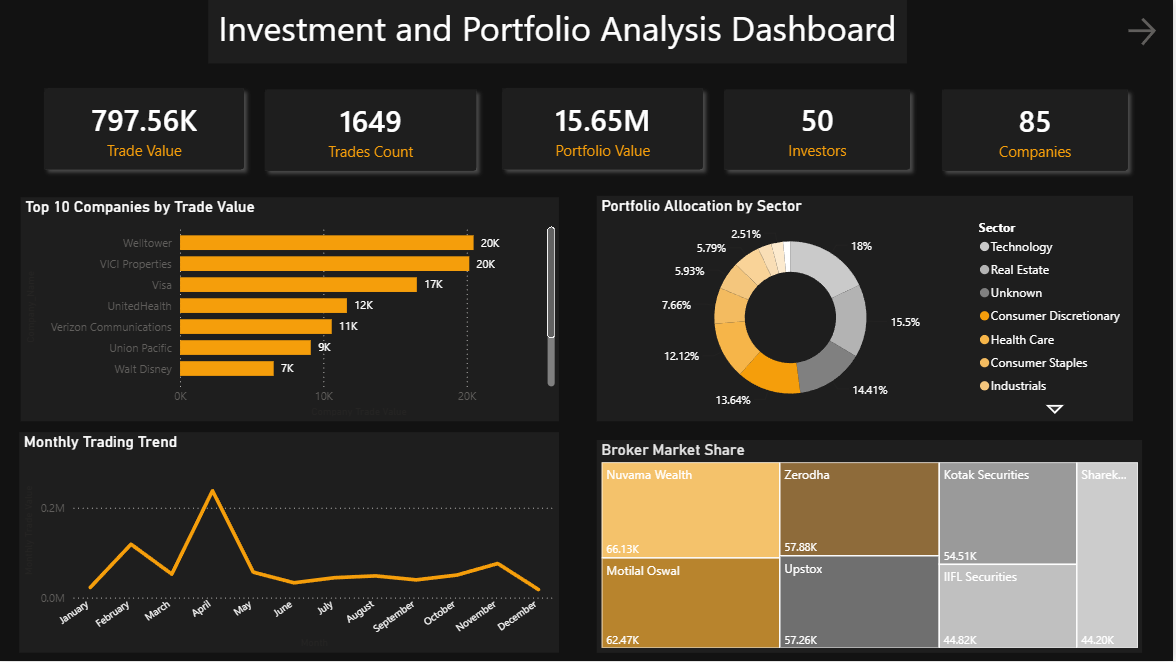

What the dashboard file says about the page in this screenshot:
{"tool":"powerbi","page":{"name":"Page 1","canvas":[1280,720],"ordinal":0},"visuals":[{"type":"textbox","box":[230,0,760,70],"z":0},{"type":"cardVisual","fields":{"Data":["Brokers.Total Trade Value"]},"box":[23.3,68.3,275,146.7],"z":1000},{"type":"cardVisual","fields":{"Data":["Brokers.Total Trades"]},"box":[263.3,70,288.3,146.7],"z":2000},{"type":"cardVisual","fields":{"Data":["Brokers.Portfolio Value"]},"box":[521.7,68.3,276.7,146.7],"z":3000},{"type":"cardVisual","fields":{"Data":["Brokers.Total Investors"]},"box":[763.3,70,260,145],"z":4000},{"type":"cardVisual","fields":{"Data":["Brokers.Total Companies"]},"box":[1000,70,260,146.7],"z":5000},{"type":"clusteredBarChart","title":"Top 10 Companies by Trade Value","fields":{"Category":["Companies.Company_Name"],"Y":["Brokers.Company Trade Value"]},"box":[25,216.2,586.2,243.8],"z":6000},{"type":"donutChart","title":"Portfolio Allocation by Sector","fields":{"Y":["Brokers.Sector Portfolio Value"],"Category":["Companies.Sector"]},"box":[652.5,213.8,583.8,245],"z":7000},{"type":"lineChart","title":"Monthly Trading Trend","fields":{"Y":["Brokers.Monthly Trade Value"],"Category":["Fact_Trades.Transaction_Date.Variation.Date Hierarchy.Year","Fact_Trades.Transaction_Date.Variation.Date Hierarchy.Quarter","Fact_Trades.Transaction_Date.Variation.Date Hierarchy.Month","Fact_Trades.Transaction_Date.Variation.Date Hierarchy.Day"]},"box":[23.8,471.2,587.5,240],"z":8000},{"type":"treemap","title":"Broker Market Share","fields":{"Group":["Brokers.Broker_Name"],"Values":["Brokers.Broker Trade Value"]},"box":[652.5,480,593.8,231.2],"z":9000},{"type":"actionButton","box":[1225.7,15.7,42.9,40],"z":9001}]}

Visuals, with their boxes in screenshot pixels (x1, y1, x2, y2), scaled from the page's 1280x720 canvas onto the 1176x662 screenshot:
textbox: box=[211, 0, 910, 64]
cardVisual - Brokers.Total Trade Value: box=[21, 63, 274, 198]
cardVisual - Brokers.Total Trades: box=[242, 64, 507, 199]
cardVisual - Brokers.Portfolio Value: box=[479, 63, 734, 198]
cardVisual - Brokers.Total Investors: box=[701, 64, 940, 198]
cardVisual - Brokers.Total Companies: box=[919, 64, 1158, 199]
"Top 10 Companies by Trade Value" clusteredBarChart: box=[23, 199, 562, 423]
"Portfolio Allocation by Sector" donutChart: box=[599, 197, 1136, 422]
"Monthly Trading Trend" lineChart: box=[22, 433, 562, 654]
"Broker Market Share" treemap: box=[599, 441, 1145, 654]
actionButton: box=[1126, 14, 1166, 51]
